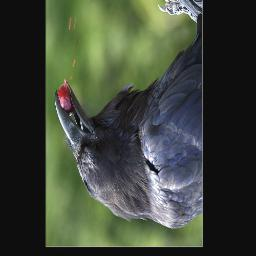Crow: (53, 0, 203, 230)
